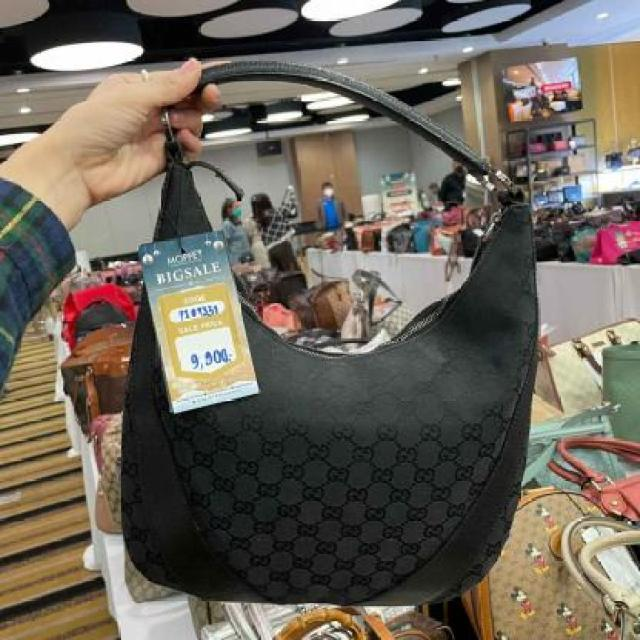Bag: (25, 25, 578, 613)
